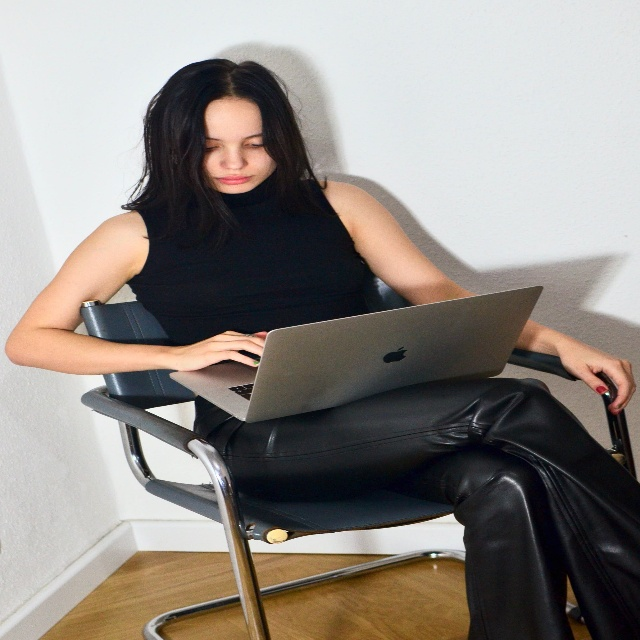Sin_guantes: (559, 336, 636, 416), (174, 330, 268, 372)
